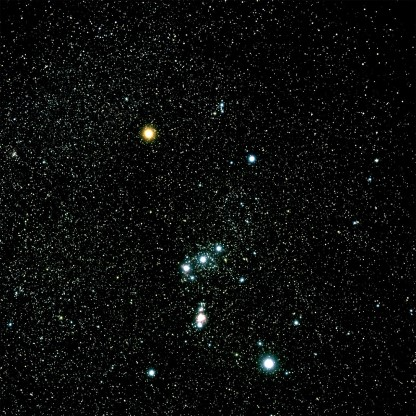Orion: (127, 121, 164, 151), (254, 347, 281, 376), (236, 144, 263, 172), (139, 366, 167, 391), (192, 247, 209, 273), (176, 257, 192, 280), (212, 237, 226, 260)
